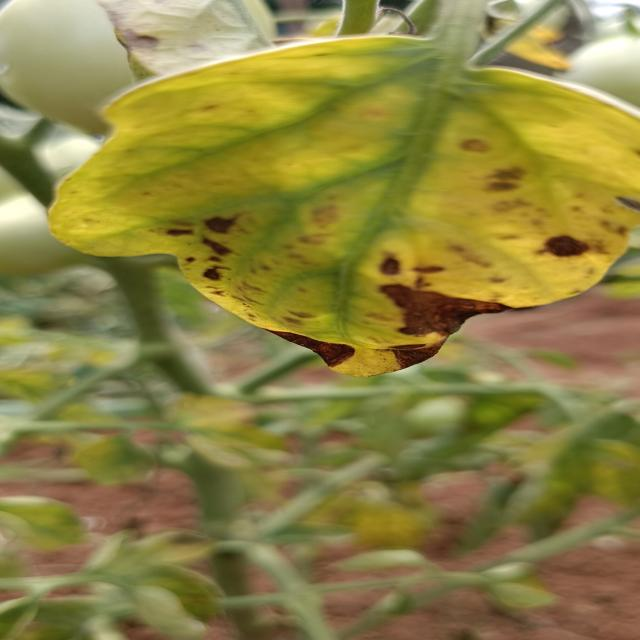tomato_early blight: (59, 29, 639, 376)
